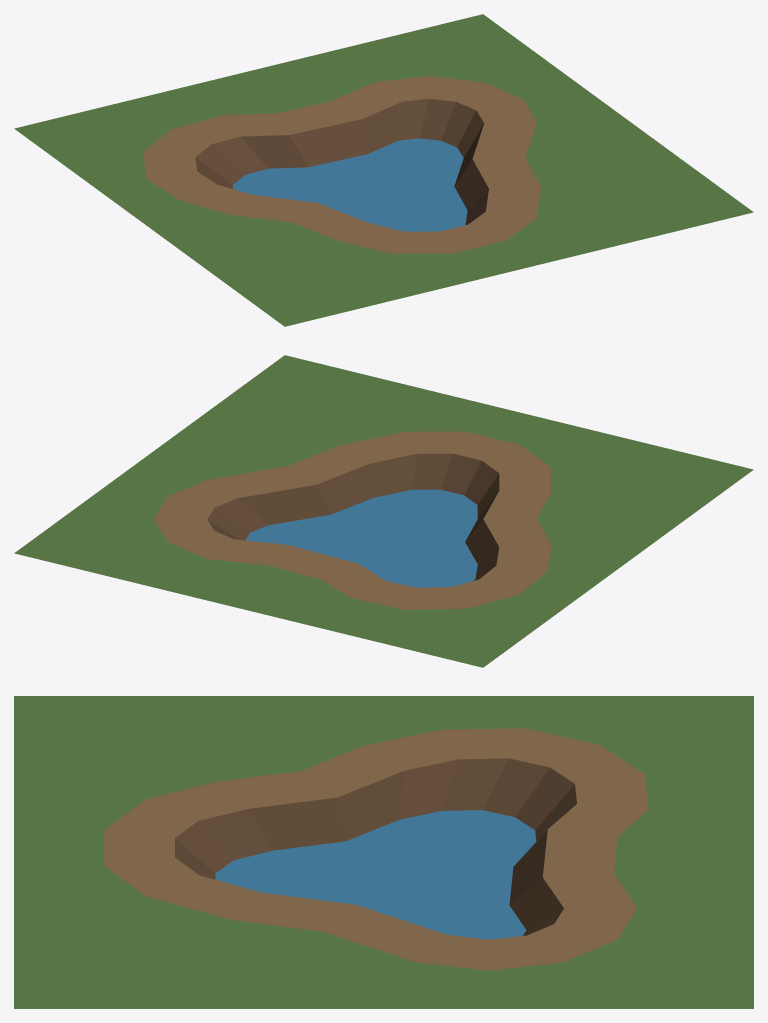
Rendered from pond.glb.
The picture shows the model from 3 angles, top to bottom: view 1: azimuth 30°, elevation 25°; view 2: azimuth 150°, elevation 25°; view 3: azimuth 270°, elevation 25°; orthographic projection. The views are drawn at different scales.
Parts seen in each view (by area): view 1: ground_riverTile; view 2: ground_riverTile; view 3: ground_riverTile.
Boxes of the visible parts, x1,y1,x2,y2 form: ground_riverTile: (14, 14, 753, 326); ground_riverTile: (14, 355, 753, 667); ground_riverTile: (14, 696, 753, 1008).
Bounding box in the file's own units: 17.32 × 0.8669 × 17.32.
